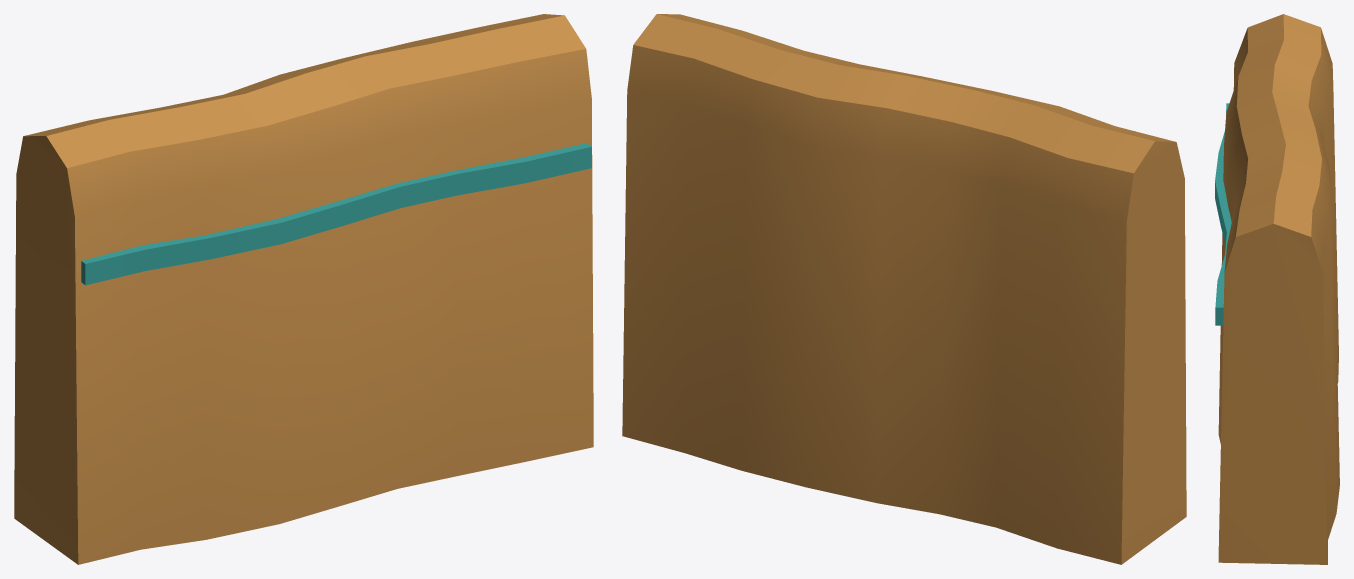
The model's file is deco_clay_wall_straight.fbx.
The picture shows the model from 3 angles, left to right: view 1: azimuth 30°, elevation 25°; view 2: azimuth 150°, elevation 25°; view 3: azimuth 270°, elevation 25°; orthographic projection. The views are drawn at different scales.
Visible parts, largest first — view 1: ClayWall_Straight_Wall, ClayWall_Straight_Band; view 2: ClayWall_Straight_Wall; view 3: ClayWall_Straight_Wall, ClayWall_Straight_Band.
Part boxes in pixels (left/top/right/bottom): ClayWall_Straight_Wall: left=14, top=14, right=593, bottom=564; ClayWall_Straight_Band: left=81, top=143, right=591, bottom=285; ClayWall_Straight_Wall: left=622, top=14, right=1186, bottom=564; ClayWall_Straight_Wall: left=1218, top=14, right=1339, bottom=564; ClayWall_Straight_Band: left=1215, top=103, right=1231, bottom=325.
Size of the model in its own units: 202 by 153 by 50.54.
